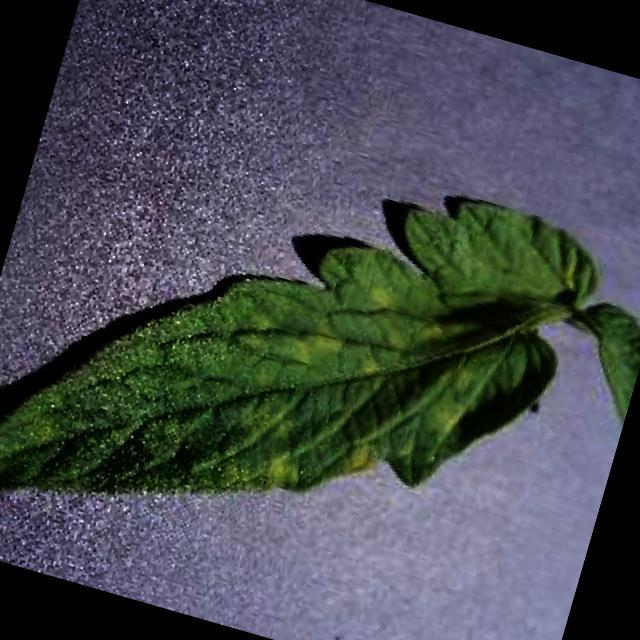Tomato mold leaf: (0, 79, 609, 640)
